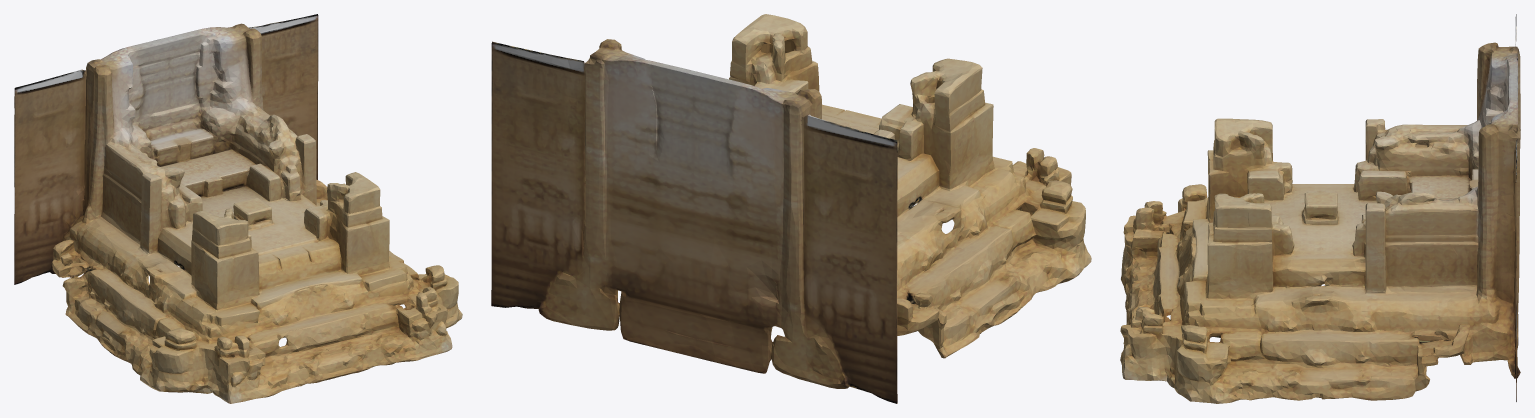
File: Staircase.glb
3 renders of one model, left to right at view 1: azimuth 30°, elevation 25°; view 2: azimuth 150°, elevation 25°; view 3: azimuth 270°, elevation 25°, orthographic. The views are drawn at different scales.
Parts seen in each view (by area): view 1: world; view 2: world; view 3: world.
Boxes of the visible parts, x1=… form: world: x1=14, y1=14, x2=462, y2=403; world: x1=491, y1=14, x2=1091, y2=403; world: x1=1120, y1=14, x2=1520, y2=403.
Size of the model in its own units: 1.53 by 1.01 by 1.52.
Materials: 1 (1 with a texture image).
